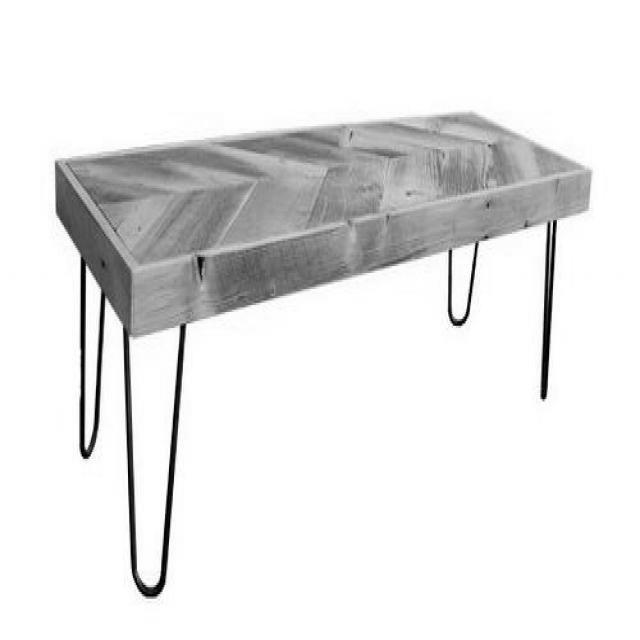table: (55, 109, 592, 597)
